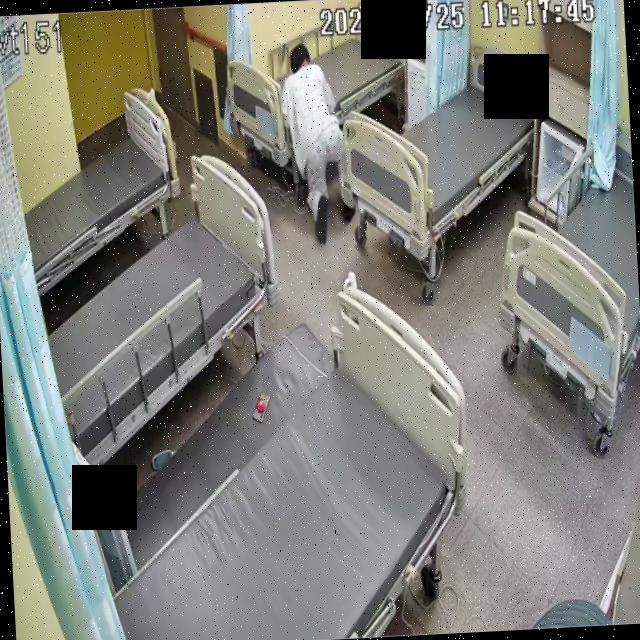bed: (97, 291, 469, 640), (34, 157, 282, 462), (494, 125, 640, 425), (335, 50, 540, 242), (16, 86, 185, 292), (228, 12, 408, 166)
danger: (280, 44, 350, 248)
patient: (274, 44, 352, 250)
